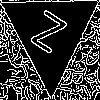Z: (25, 9, 68, 64)
